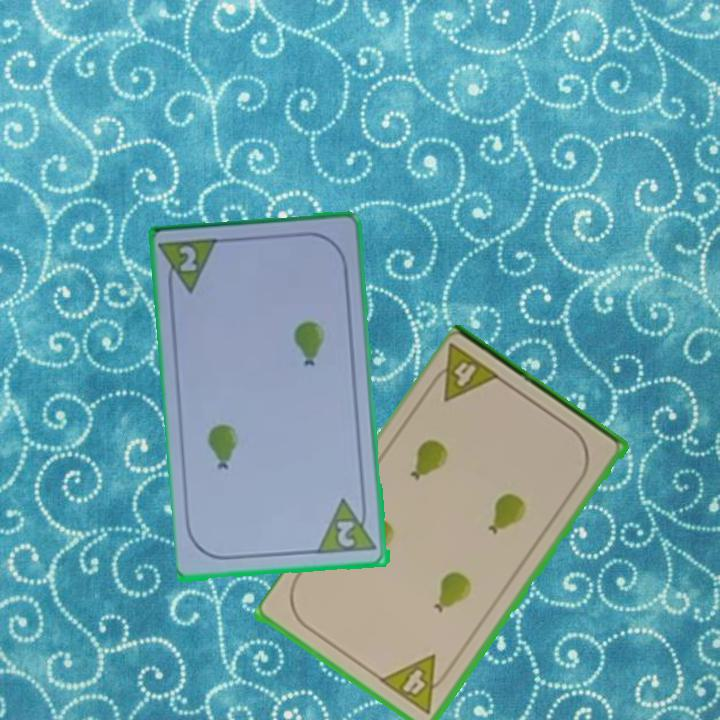2p: (158, 235, 224, 299), (316, 495, 380, 558)
4p: (423, 340, 505, 406), (377, 652, 455, 718)
